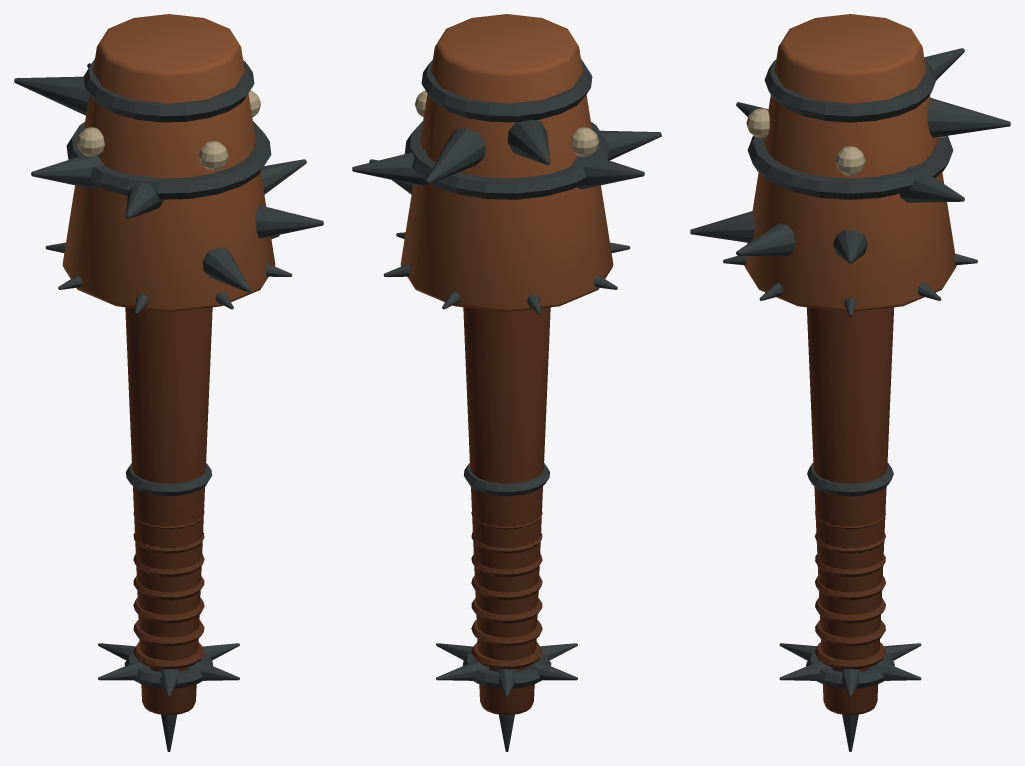
File: SM_Bram_OrcWarClub.fbx
3 views of the same model, side by side, from view 1: azimuth 30°, elevation 25°; view 2: azimuth 150°, elevation 25°; view 3: azimuth 270°, elevation 25° (orthographic).
Parts seen in each view (by area): view 1: SM_Bram_OrcWarClub; view 2: SM_Bram_OrcWarClub; view 3: SM_Bram_OrcWarClub.
Part boxes in pixels (<box>): SM_Bram_OrcWarClub: <box>14,14,323,751</box>; SM_Bram_OrcWarClub: <box>352,14,661,751</box>; SM_Bram_OrcWarClub: <box>690,14,1010,751</box>.
Size of the model in its own units: 0.5323 by 0.5387 by 1.31.
